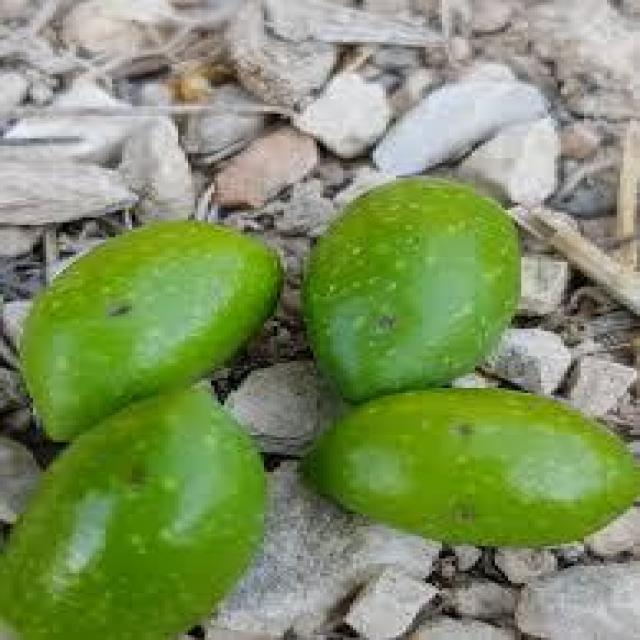Anthracnose: (0, 388, 261, 638), (20, 222, 277, 438), (307, 388, 637, 541), (307, 178, 518, 398)
